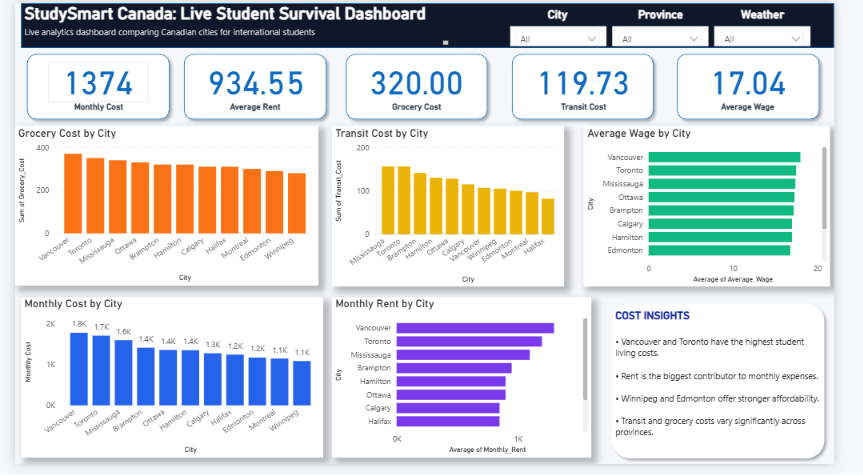

Layout of this report page (visuals, bound fields, positions):
{"tool":"powerbi","page":{"name":"Cost Analysis","canvas":[1280,720],"ordinal":1},"visuals":[{"type":"shape","box":[923.4,459.4,350,260.9],"z":0},{"type":"shape","box":[9.4,459.4,471.9,250],"z":1000},{"type":"shape","box":[495.3,459.4,404.7,250],"z":2000},{"type":"shape","box":[0,190.6,473.4,250],"z":3000},{"type":"shape","box":[10,0,1270,70],"z":4000},{"type":"textbox","title":"StudySmart Canada: Live Student Survival Dashboard","box":[9.6,0,672.4,70],"z":5000},{"type":"textbox","title":"City","box":[762.9,0,170,32.9],"z":6000},{"type":"textbox","title":"Province","box":[922.9,0,170,32.9],"z":7000},{"type":"textbox","title":"Weather","box":[1082.9,0,170,32.9],"z":8000},{"type":"slicer","fields":{"Values":["city_student_data.City"]},"box":[772.9,35.7,150,31.4],"z":9000},{"type":"slicer","fields":{"Values":["city_student_data.Province"]},"box":[932.9,35.7,150,31.4],"z":10000},{"type":"slicer","fields":{"Values":["live_weather.Weather_Status"]},"box":[1092.9,35.7,150,31.4],"z":11000},{"type":"shape","box":[9.4,70.3,240.6,120.3],"z":12000},{"type":"card","fields":{"Values":["city_student_data.Monthly Cost"]},"box":[51.6,92.2,156.2,62.5],"z":13000},{"type":"textbox","title":"Monthly Cost","box":[32.8,154.7,195.3,21.9],"z":14000},{"type":"shape","box":[254.7,70.3,240.6,120.3],"z":15000},{"type":"shape","box":[507.8,70.3,239.1,120.3],"z":16000},{"type":"shape","box":[767.2,70.3,239.1,120.3],"z":17000},{"type":"shape","box":[1025,70.3,240.6,120.3],"z":18000},{"type":"card","fields":{"Values":["city_student_data.Average Rent"]},"box":[293.8,92.2,165.6,62.5],"z":19000},{"type":"card","fields":{"Values":["city_student_data.Average Wage"]},"box":[1067.2,92.2,156.2,62.5],"z":20000},{"type":"card","fields":{"Values":["city_student_data.Average Transit Cost"]},"box":[809.4,92.2,156.2,62.5],"z":21000},{"type":"card","fields":{"Values":["city_student_data.Average Grocery Cost"]},"box":[548.4,92.2,157.8,62.5],"z":22000},{"type":"textbox","title":"Grocery Cost","box":[529.7,154.7,195.3,21.9],"z":23000},{"type":"textbox","title":"Average Rent","box":[276.6,154.7,196.9,21.9],"z":24000},{"type":"textbox","title":"Transit Cost","box":[790.6,154.7,195.3,21.9],"z":25000},{"type":"textbox","title":"Average Wage","box":[1046.9,154.7,195.3,21.9],"z":26000},{"type":"clusteredColumnChart","title":"Monthly Cost by City","fields":{"Category":["city_student_data.City"],"Y":["city_student_data.Monthly Cost"]},"box":[9.4,459.4,471.9,250],"z":27000},{"type":"shape","box":[495.3,190.6,362.5,251.6],"z":28000},{"type":"clusteredBarChart","title":"Monthly Rent by City","fields":{"Category":["city_student_data.City"],"Y":["Avg(city_student_data.Monthly_Rent)"]},"box":[495.3,459.4,404.7,250],"z":29000},{"type":"shape","box":[887.5,190.6,385.9,250],"z":30000},{"type":"clusteredBarChart","title":"Average Wage by City","fields":{"Category":["city_student_data.City"],"Y":["Avg(city_student_data.Average_Wage)"]},"box":[889.1,192.2,384.4,250],"z":31000},{"type":"clusteredColumnChart","title":"Grocery Cost by City","fields":{"Category":["city_student_data.City"],"Y":["Sum(city_student_data.Grocery_Cost)"]},"box":[0,192.2,473.4,248.4],"z":32000},{"type":"clusteredColumnChart","title":"Transit Cost by City","fields":{"Category":["city_student_data.City"],"Y":["Sum(city_student_data.Transit_Cost)"]},"box":[495.3,192.2,362.5,250],"z":33000},{"type":"textbox","title":"COST INSIGHTS","box":[932.8,478.1,332.8,231.2],"z":34000}]}

Visuals, with their boxes in screenshot pixels (x1, y1, x2, y2), scaled from the page's 1280x720 canvas onto the 863x475 screenshot:
shape: <bbox>623, 303, 859, 474</bbox>
shape: <bbox>6, 303, 325, 468</bbox>
shape: <bbox>334, 303, 607, 468</bbox>
shape: <bbox>0, 126, 319, 291</bbox>
shape: <bbox>7, 0, 862, 46</bbox>
"StudySmart Canada: Live Student Survival Dashboard" textbox: <bbox>6, 0, 460, 46</bbox>
"City" textbox: <bbox>514, 0, 629, 22</bbox>
"Province" textbox: <bbox>622, 0, 737, 22</bbox>
"Weather" textbox: <bbox>730, 0, 845, 22</bbox>
slicer - city_student_data.City: <bbox>521, 24, 622, 44</bbox>
slicer - city_student_data.Province: <bbox>629, 24, 730, 44</bbox>
slicer - live_weather.Weather_Status: <bbox>737, 24, 838, 44</bbox>
shape: <bbox>6, 46, 169, 126</bbox>
card - city_student_data.Monthly Cost: <bbox>35, 61, 140, 102</bbox>
"Monthly Cost" textbox: <bbox>22, 102, 154, 117</bbox>
shape: <bbox>172, 46, 334, 126</bbox>
shape: <bbox>342, 46, 504, 126</bbox>
shape: <bbox>517, 46, 678, 126</bbox>
shape: <bbox>691, 46, 853, 126</bbox>
card - city_student_data.Average Rent: <bbox>198, 61, 310, 102</bbox>
card - city_student_data.Average Wage: <bbox>720, 61, 825, 102</bbox>
card - city_student_data.Average Transit Cost: <bbox>546, 61, 651, 102</bbox>
card - city_student_data.Average Grocery Cost: <bbox>370, 61, 476, 102</bbox>
"Grocery Cost" textbox: <bbox>357, 102, 489, 117</bbox>
"Average Rent" textbox: <bbox>186, 102, 319, 117</bbox>
"Transit Cost" textbox: <bbox>533, 102, 665, 117</bbox>
"Average Wage" textbox: <bbox>706, 102, 838, 117</bbox>
"Monthly Cost by City" clusteredColumnChart: <bbox>6, 303, 325, 468</bbox>
shape: <bbox>334, 126, 578, 292</bbox>
"Monthly Rent by City" clusteredBarChart: <bbox>334, 303, 607, 468</bbox>
shape: <bbox>598, 126, 859, 291</bbox>
"Average Wage by City" clusteredBarChart: <bbox>599, 127, 859, 292</bbox>
"Grocery Cost by City" clusteredColumnChart: <bbox>0, 127, 319, 291</bbox>
"Transit Cost by City" clusteredColumnChart: <bbox>334, 127, 578, 292</bbox>
"COST INSIGHTS" textbox: <bbox>629, 315, 853, 468</bbox>
